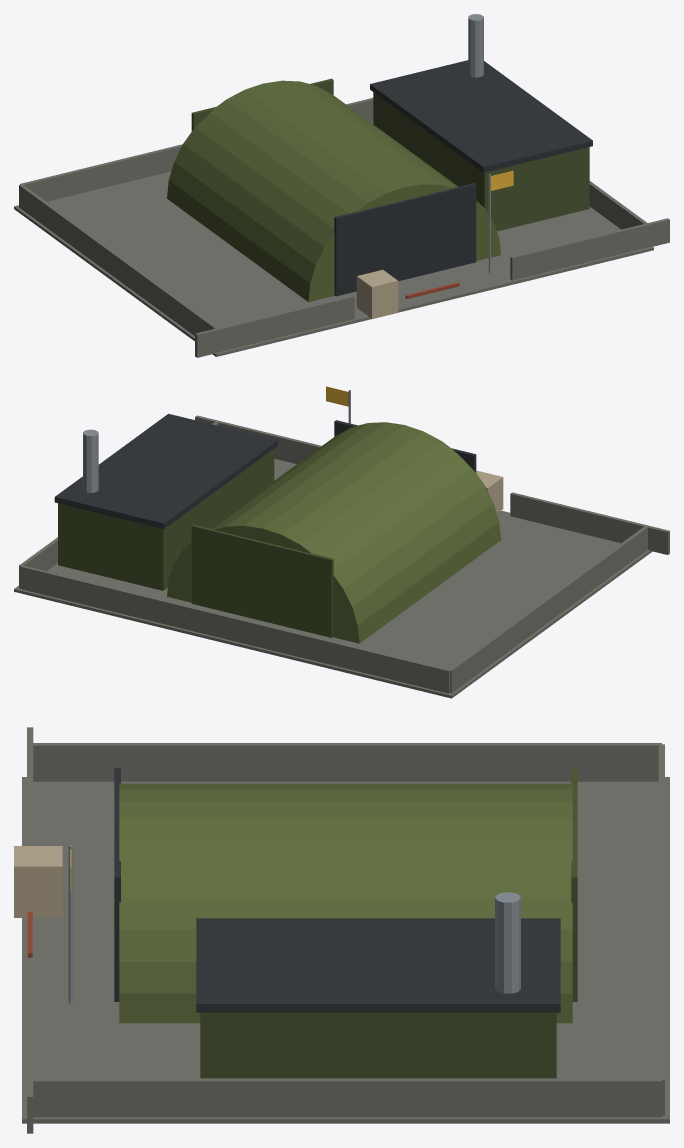
File: military.glb
3 views of the same model, one above another, from view 1: azimuth 30°, elevation 25°; view 2: azimuth 150°, elevation 25°; view 3: azimuth 270°, elevation 25° (orthographic). The views are drawn at different scales.
Visible parts, largest first — view 1: military; view 2: military; view 3: military.
Part boxes in pixels (x1,y1,x2,y2): military: (14,14,669,357); military: (14,386,669,698); military: (14,727,669,1133).
Size of the model in its own units: 54 by 14 by 40.5.
